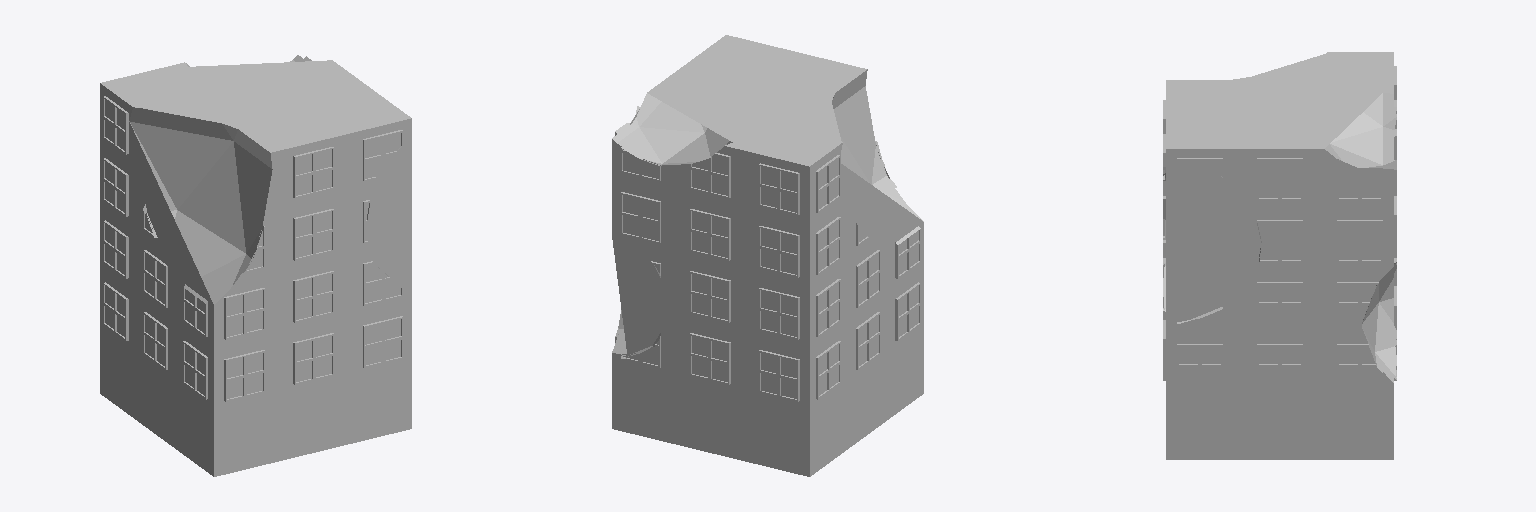
Rendered from building_broken.obj.
3 renders of one model, left to right at view 1: azimuth 30°, elevation 25°; view 2: azimuth 150°, elevation 25°; view 3: azimuth 270°, elevation 25°, orthographic.
Parts seen in each view (by area): view 1: Cube, Window.001, Window; view 2: Cube, Window.003, Window; view 3: Cube, Window.002, Window.003, Window.001.
Part boxes in pixels (bbox=[...]): Cube: bbox=[100, 55, 411, 476]; Window.001: bbox=[224, 130, 403, 401]; Window: bbox=[103, 96, 207, 399]; Cube: bbox=[612, 35, 923, 476]; Window.003: bbox=[620, 147, 799, 401]; Window: bbox=[816, 155, 920, 399]; Cube: bbox=[1166, 52, 1393, 459]; Window.002: bbox=[1177, 158, 1382, 386]; Window.003: bbox=[1394, 66, 1396, 380]; Window.001: bbox=[1163, 100, 1165, 380].
Bounding box in the file's own units: 4.1 × 6 × 4.1.